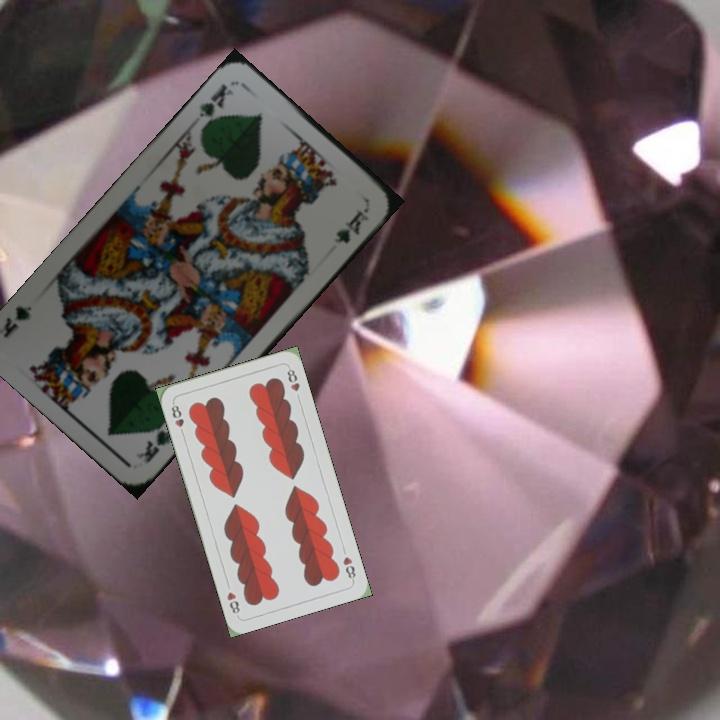GK: (132, 413, 174, 466), (195, 80, 237, 132)
H8: (167, 398, 187, 438), (339, 553, 358, 584)
